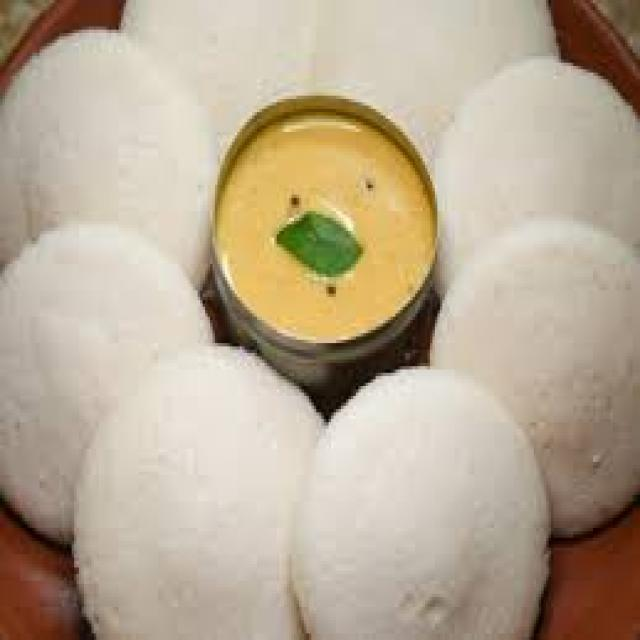IDLI: (72, 347, 325, 637), (292, 364, 554, 637), (0, 223, 215, 542), (429, 217, 638, 535), (0, 28, 216, 295), (431, 61, 638, 291), (311, 1, 553, 127), (129, 0, 321, 146)
